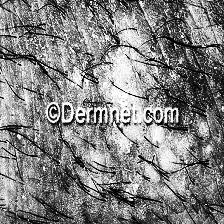Non-Cancerous Skin Condition: (74, 22, 131, 106)
